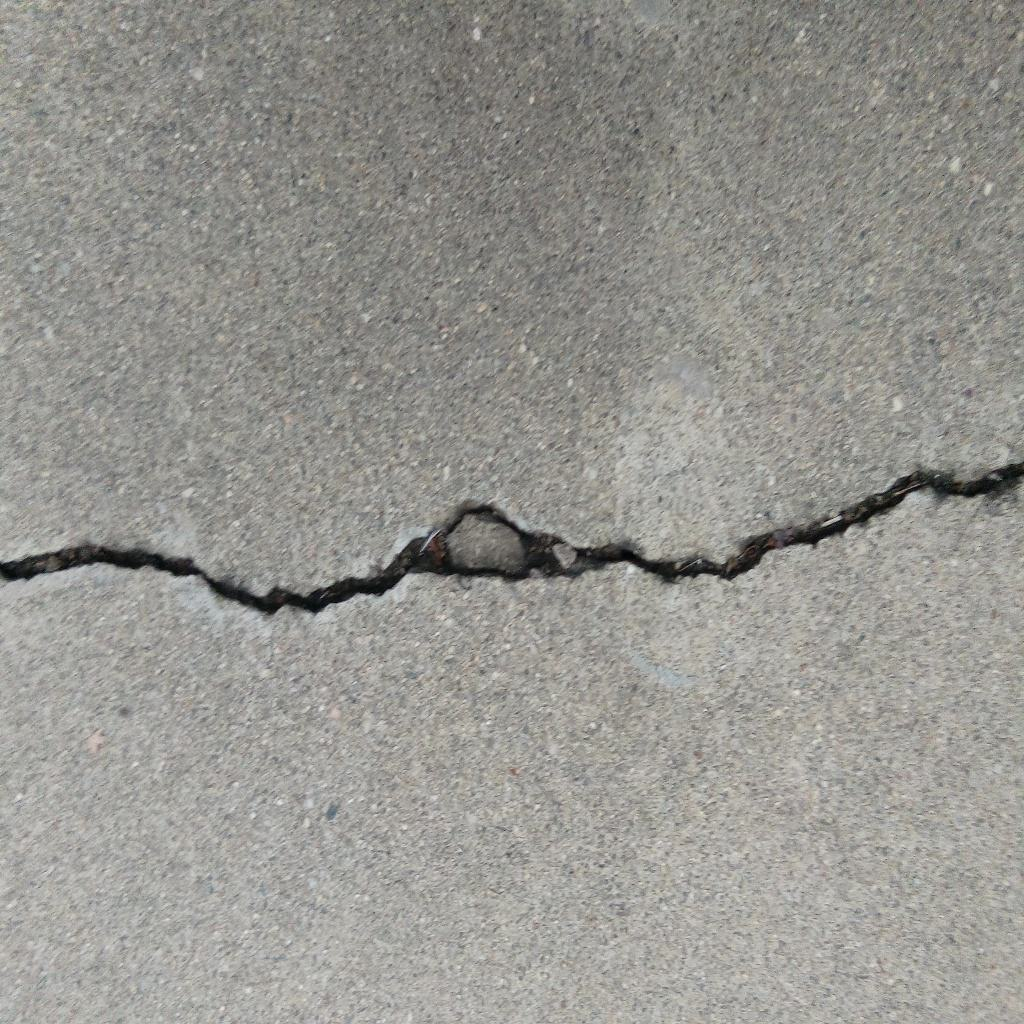Crack: (1, 461, 1024, 618)
